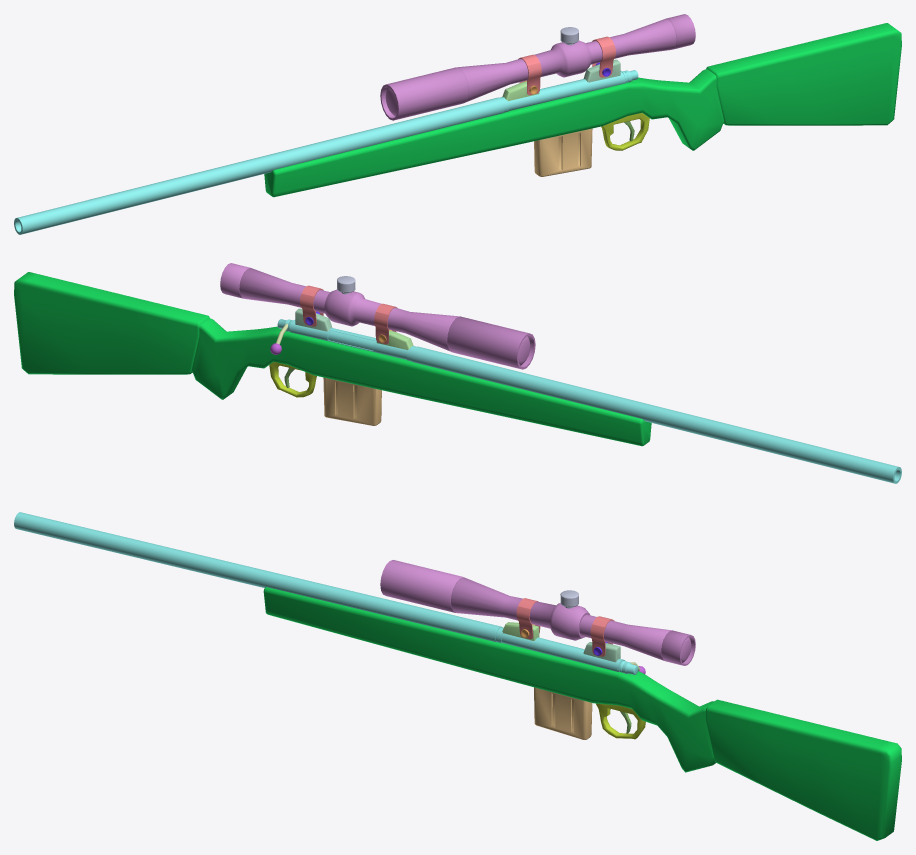
3 renders of one model, top to bottom at view 1: azimuth 30°, elevation 25°; view 2: azimuth 150°, elevation 25°; view 3: azimuth 330°, elevation 25°, orthographic.
Parts seen in each view (by area): view 1: Object_2, Object_2.181, Object_2.134, Object_2.121, split_parent_4, Object_2.110; view 2: Object_2, Object_2.181, Object_2.134, Object_2.121, split_parent_4, Object_2.110; view 3: Object_2, Object_2.181, Object_2.134, Object_2.121, split_parent_4, Object_2.110.
Part boxes in pixels (x1,y1,x2,y2): Object_2: (264, 23, 901, 197); Object_2.181: (14, 70, 638, 234); Object_2.134: (380, 14, 695, 120); Object_2.121: (534, 128, 592, 176); split_parent_4: (518, 36, 615, 95); Object_2.110: (601, 113, 649, 150); Object_2: (14, 272, 651, 446); Object_2.181: (277, 319, 901, 483); Object_2.134: (220, 263, 535, 369); Object_2.121: (323, 377, 381, 425); split_parent_4: (300, 285, 397, 344); Object_2.110: (269, 362, 316, 397); Object_2: (263, 587, 901, 840); Object_2.181: (14, 512, 638, 674); Object_2.134: (380, 560, 695, 665); Object_2.121: (534, 687, 592, 739); split_parent_4: (516, 598, 614, 656); Object_2.110: (595, 703, 645, 739).
Size of the model in its own units: 1 by 0.1823 by 0.0502.
